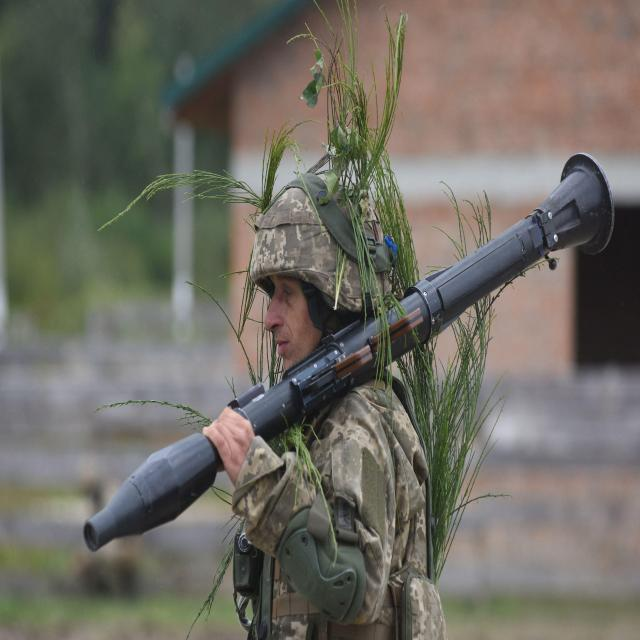bazooka: (74, 142, 624, 559)
